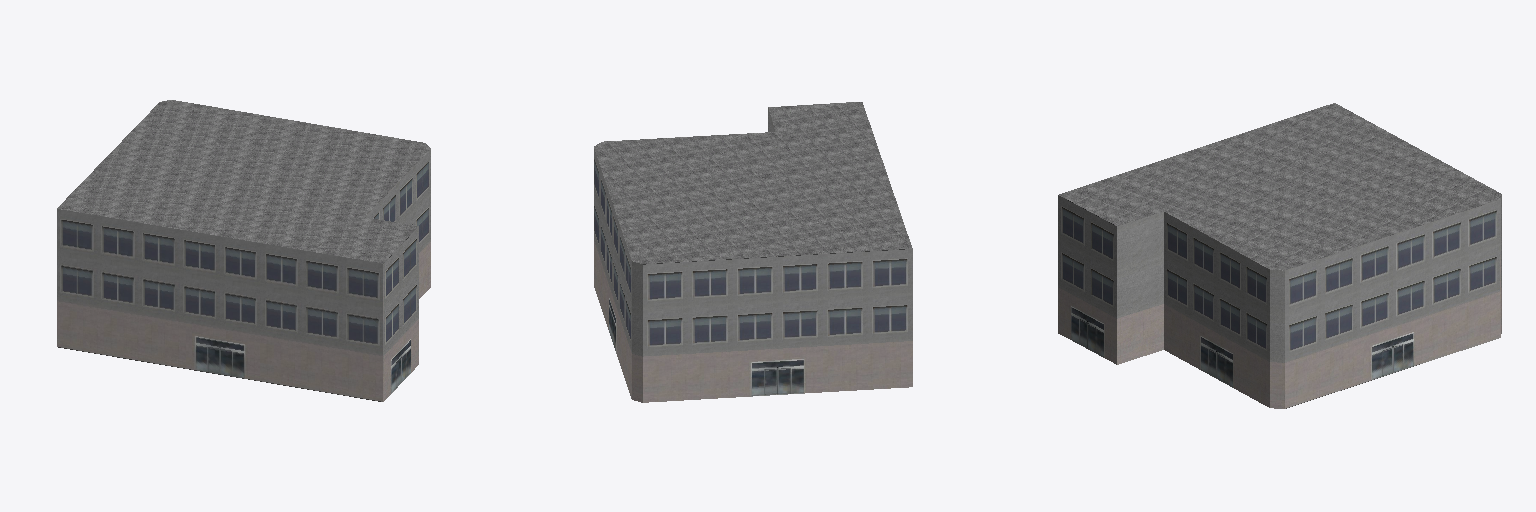
3 views of the same model, side by side, from view 1: azimuth 30°, elevation 25°; view 2: azimuth 150°, elevation 25°; view 3: azimuth 270°, elevation 25° (orthographic).
Parts seen in each view (by area): view 1: BuildingMaster_[number redacted]_0, BuildingMaster_[number redacted]_1; view 2: BuildingMaster_[number redacted]_0, BuildingMaster_[number redacted]_1; view 3: BuildingMaster_[number redacted]_0, BuildingMaster_[number redacted]_1.
Part boxes in pixels (left/top/right/bottom): BuildingMaster_[number redacted]_0: left=57, top=150, right=430, bottom=401; BuildingMaster_[number redacted]_1: left=57, top=100, right=430, bottom=263; BuildingMaster_[number redacted]_0: left=594, top=108, right=912, bottom=402; BuildingMaster_[number redacted]_1: left=594, top=102, right=912, bottom=263; BuildingMaster_[number redacted]_0: left=1058, top=195, right=1501, bottom=408; BuildingMaster_[number redacted]_1: left=1059, top=103, right=1501, bottom=270.
Size of the model in its own units: 27.29 by 10.5 by 30.47.
Materials: 2 (2 with a texture image).